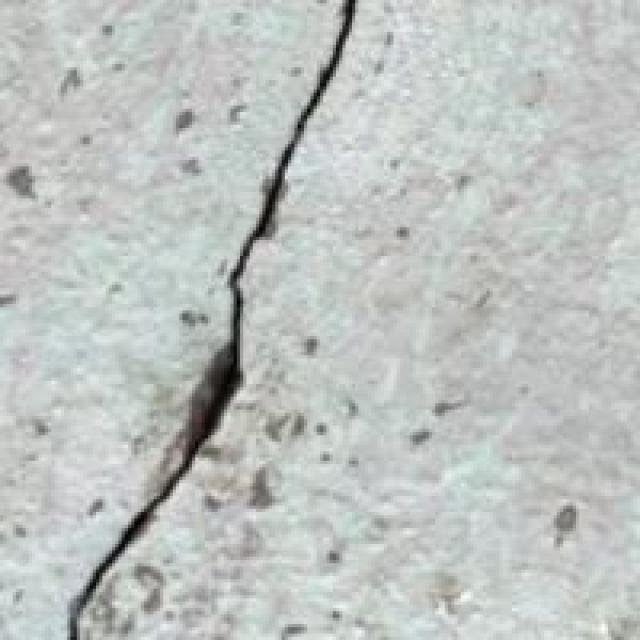Crack: (58, 3, 390, 637)
